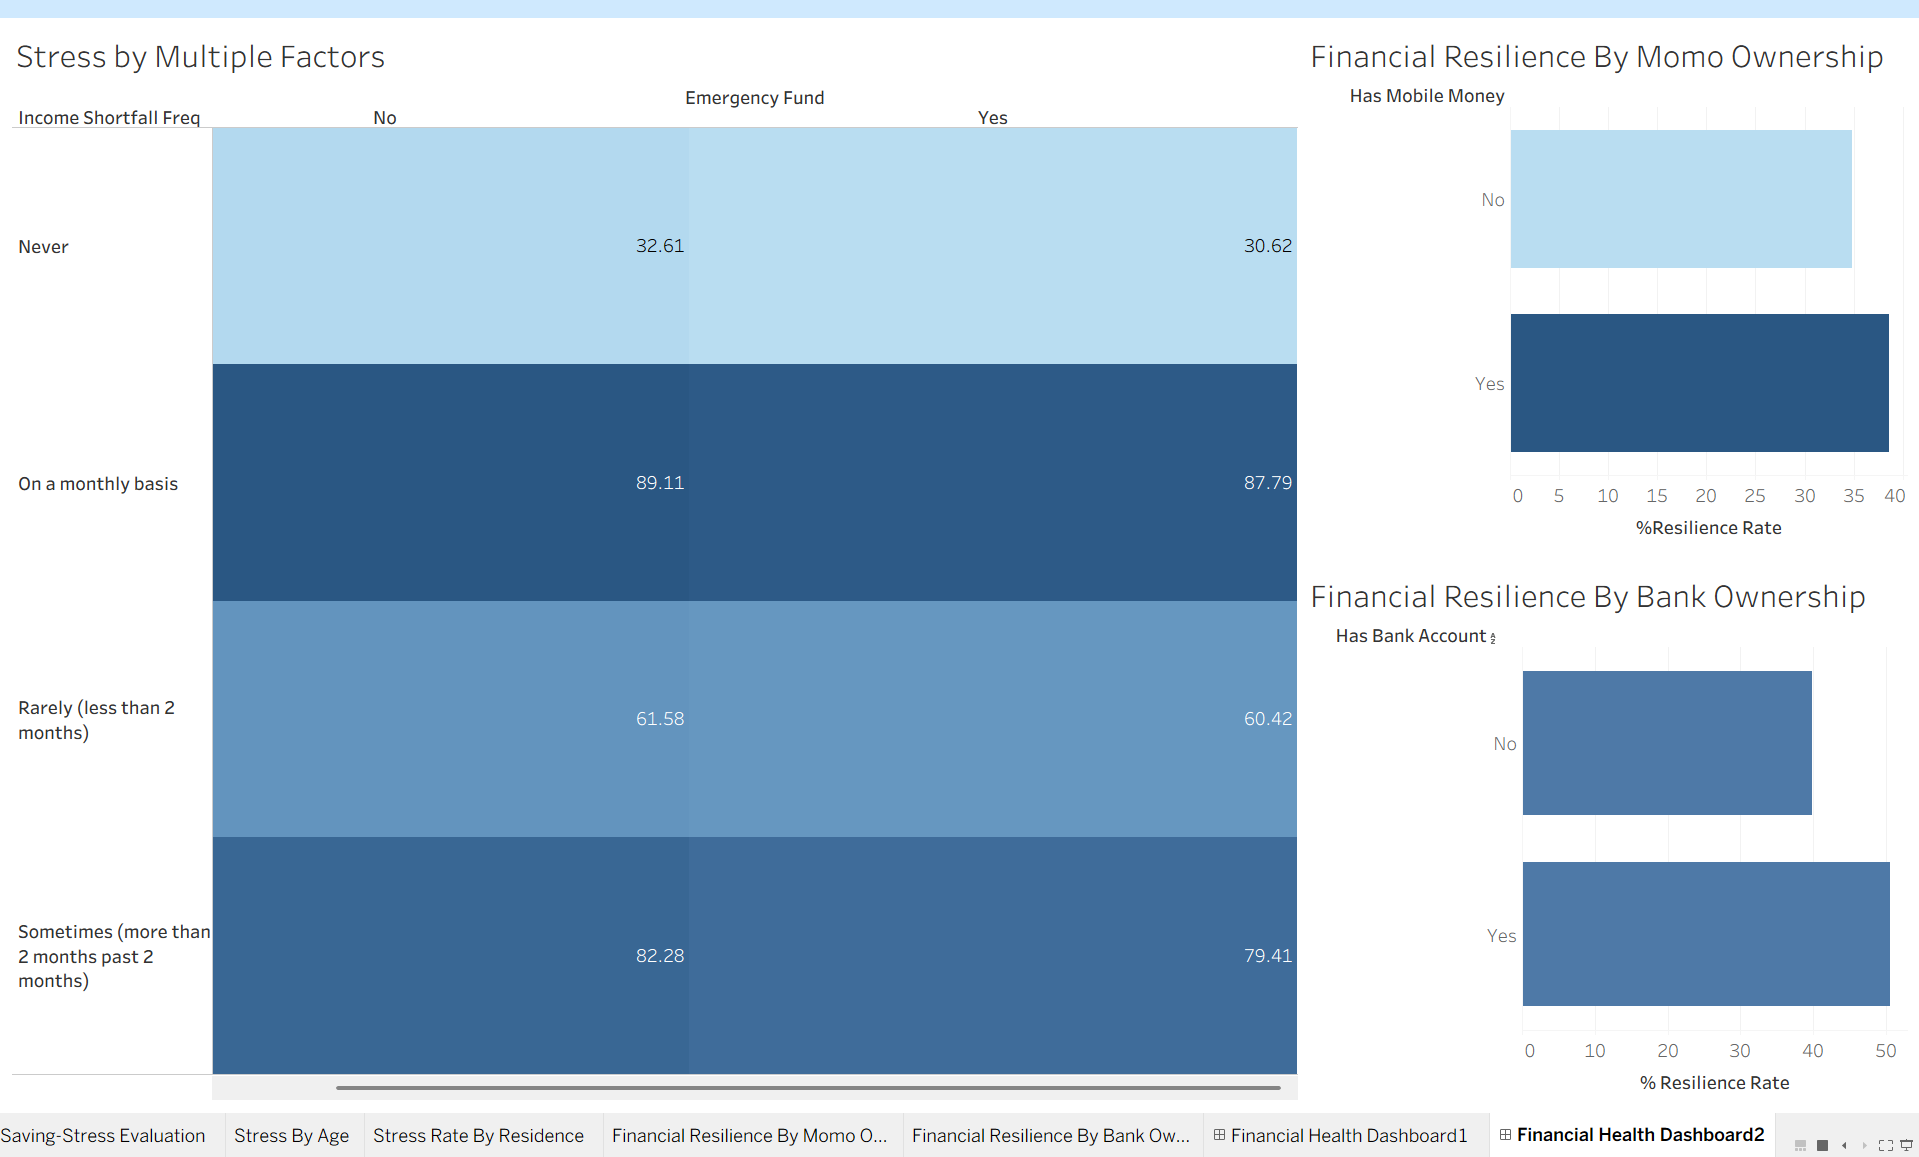

Layout of this report page (visuals, bound fields, positions):
{"tool":"tableau","page":{"name":"Dashboard 2","canvas":[1000,1000],"units":"permille","ordinal":1},"visuals":[{"type":"worksheet","title":"Stress by Multiple Factors","mark":"Square","rows":["Income_Shortfall_Freq"],"cols":["Emergency_Fund"],"box":[5.8,9.2,671.7,981.5]},{"type":"worksheet","title":"Financial Resilience By Momo Ownership","mark":"Bar","rows":["Has_Mobile_Money"],"cols":["resilience_rate"],"box":[677.5,9.2,316.7,490.8]},{"type":"worksheet","title":"Financial Resilience By Bank Ownership","mark":"Bar","rows":["Has_Bank_Account"],"cols":["resilience_rate"],"box":[677.5,500,316.7,490.8]}]}

Visuals, with their boxes on the dashboard's canvas, which has no fixed pixel size, in thousandths of its width and height (x1, y1, x2, y2). These are canvas units, not pixel positions in the 1919x1157 screenshot, which may show the page scaled, cropped or inside an application window:
"Stress by Multiple Factors" worksheet (Square marks): rect(6, 9, 678, 991)
"Financial Resilience By Momo Ownership" worksheet (Bar marks): rect(678, 9, 994, 500)
"Financial Resilience By Bank Ownership" worksheet (Bar marks): rect(678, 500, 994, 991)
